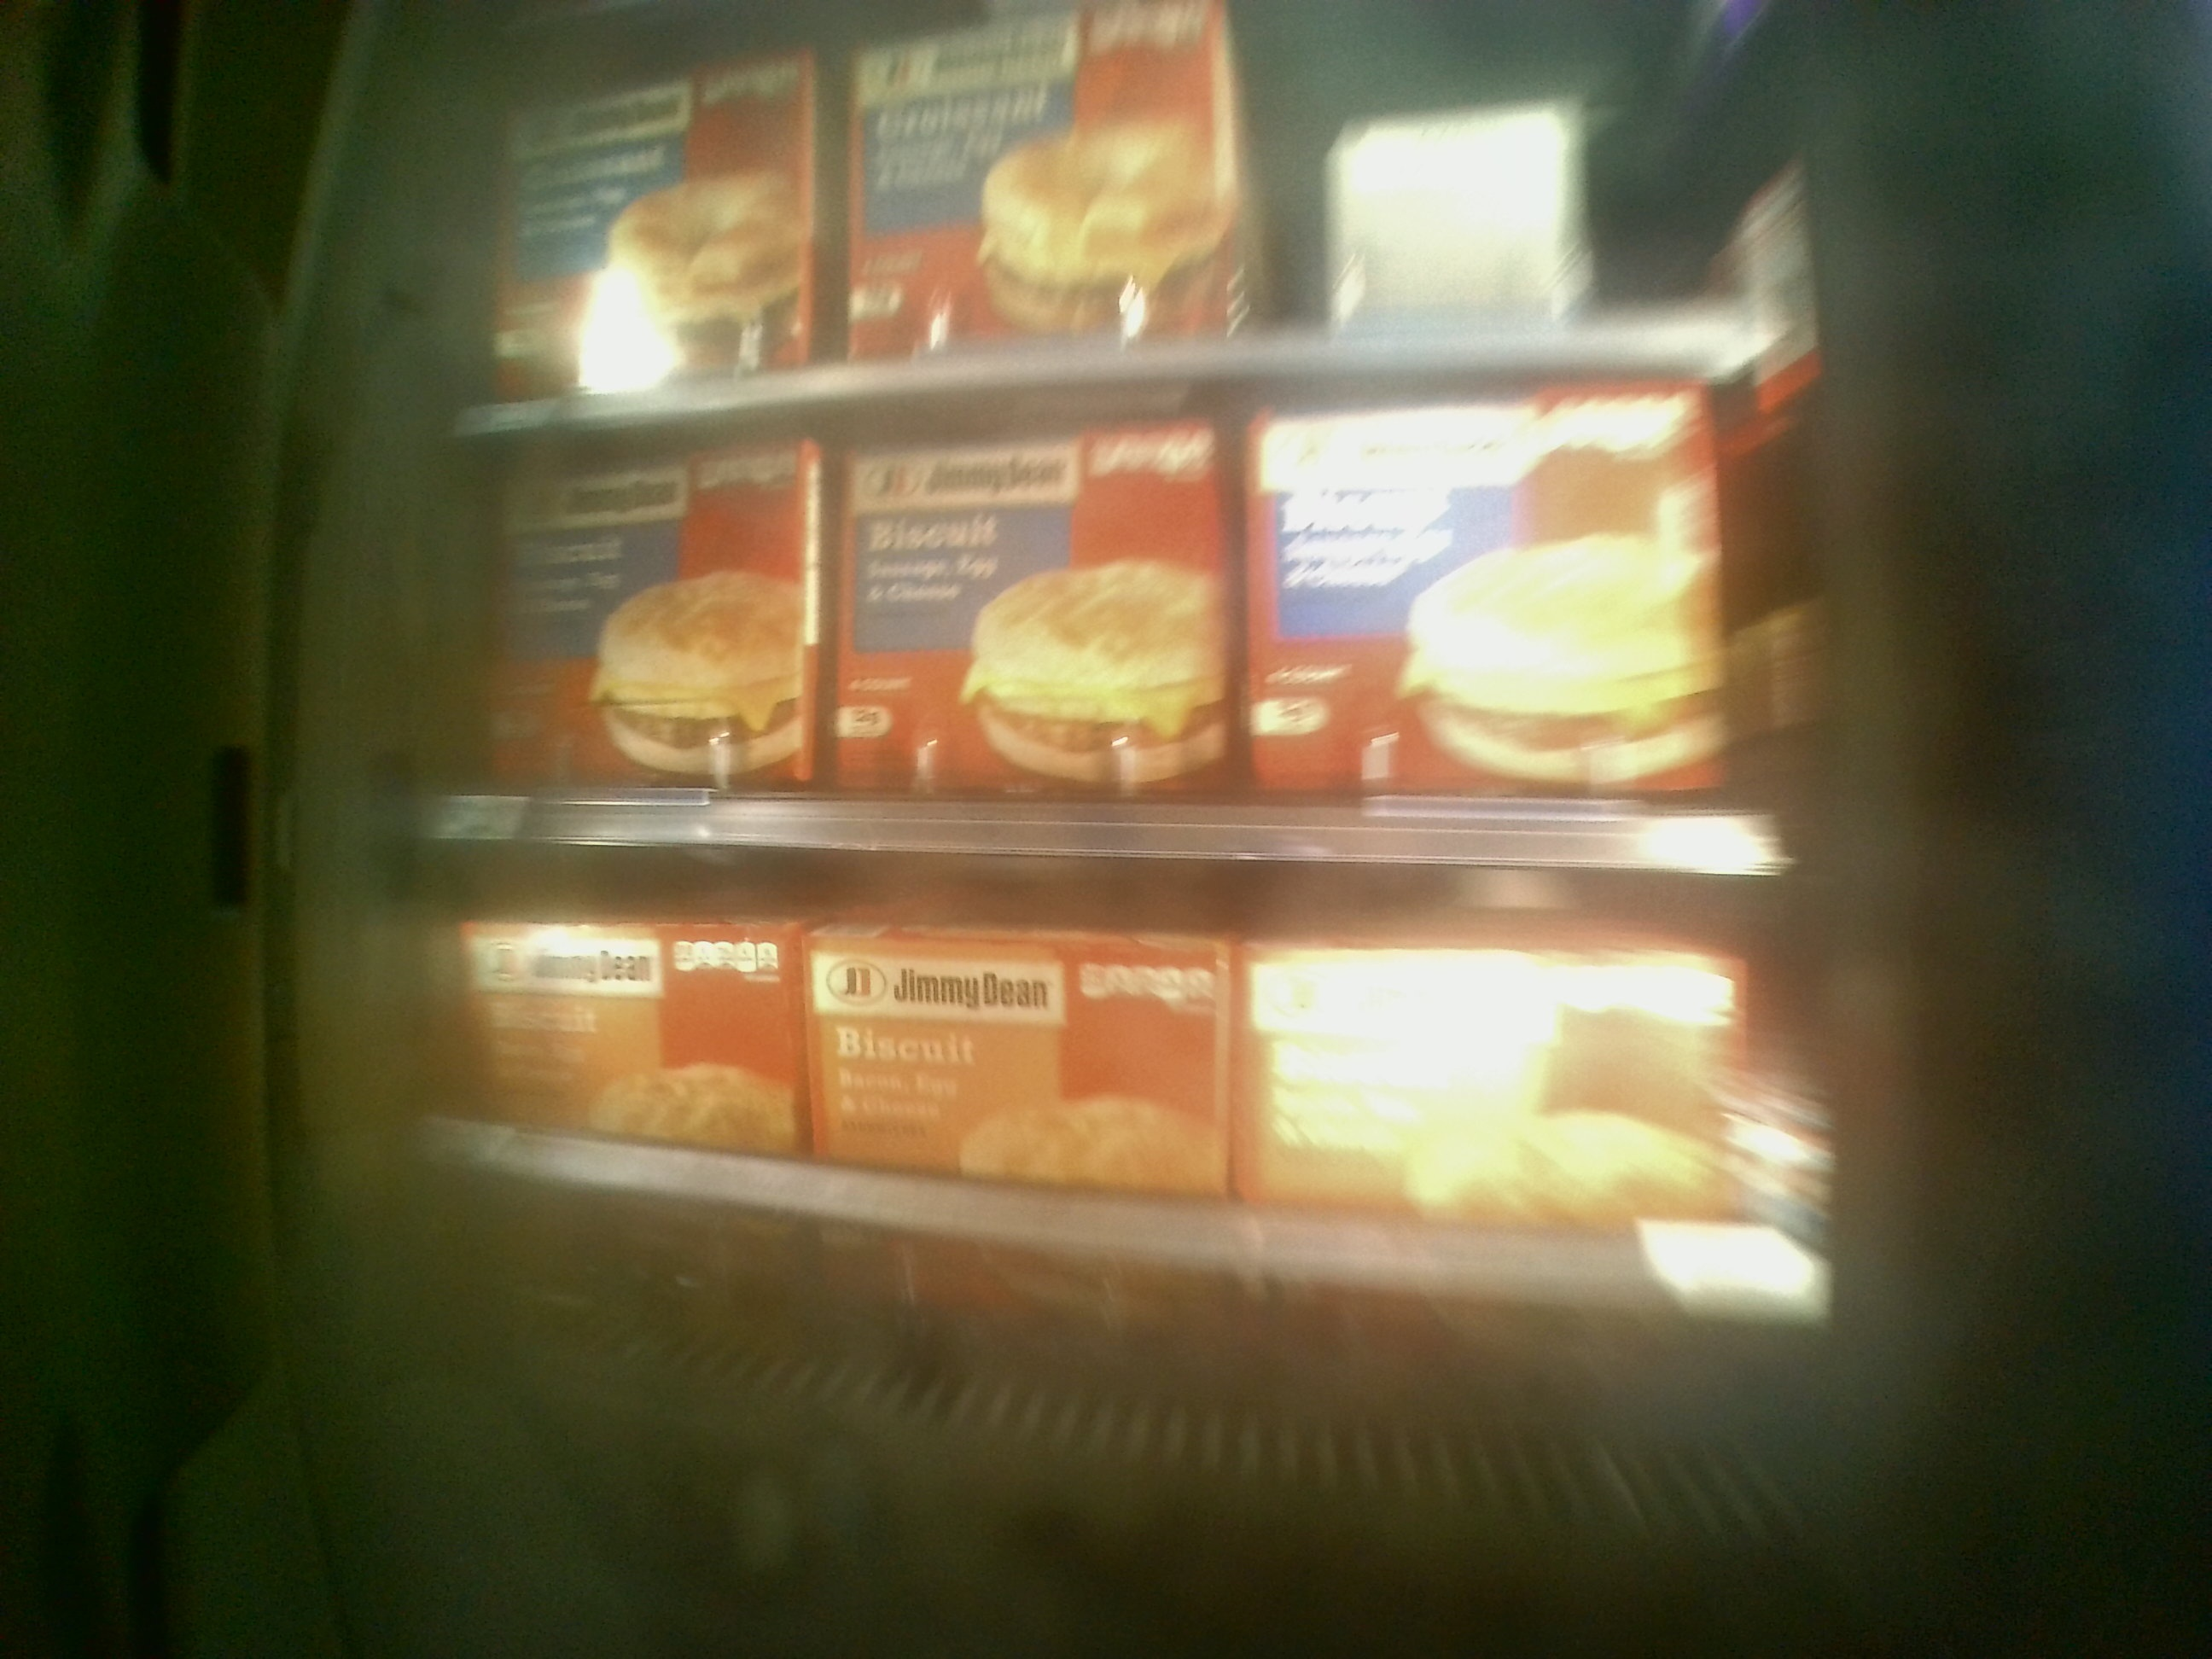shelf: (425, 842, 1799, 1364), (409, 368, 1801, 864)
